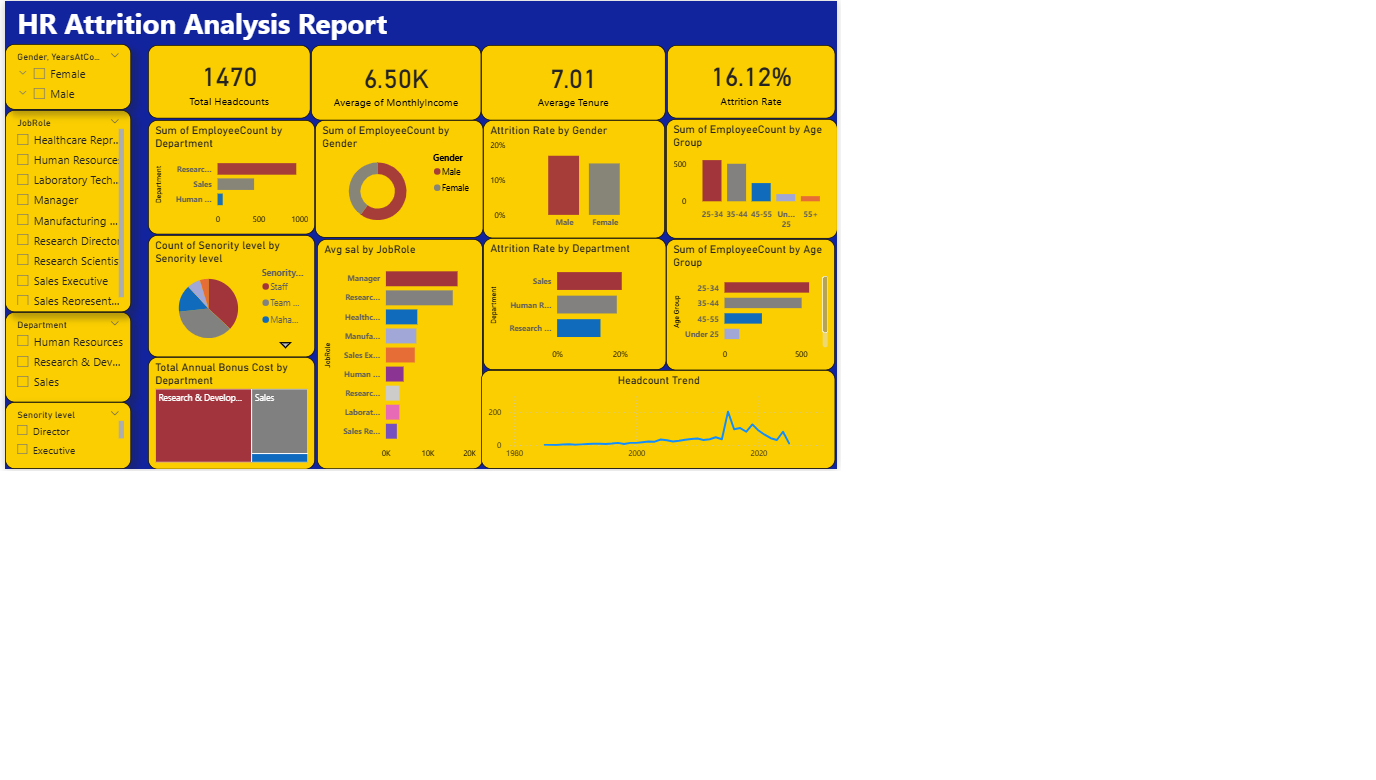

This screenshot's page, from the dashboard's own definition file:
{"tool":"powerbi","page":{"name":"Page 1","canvas":[1280,720],"ordinal":0},"visuals":[{"type":"textbox","box":[13.3,0,583.3,73.3],"z":0},{"type":"slicer","fields":{"Values":["HR_Data.Department"]},"box":[0,478.6,193.7,138.8],"z":1000},{"type":"slicer","fields":{"Values":["HR_Data.JobRole"]},"box":[0,167.7,193.7,310.8],"z":2000},{"type":"slicer","fields":{"Values":["HR_Data.Gender","HR_Data.YearsAtCompany"]},"box":[0,66.5,193.7,101.2],"z":3000},{"type":"slicer","fields":{"Values":["HR_Data.Senority level"]},"box":[0,617.3,193.7,102.7],"z":4000},{"type":"card","fields":{"Values":["CountNonNull(HR_Data.EmployeeNumber)"]},"box":[220.1,67.2,250.3,112.5],"z":5000},{"type":"card","fields":{"Values":["Avg(HR_Data.MonthlyIncome)"]},"box":[470.3,67.2,262,115.9],"z":6000},{"type":"card","fields":{"Values":["Avg(HR_Data.YearsAtCompany)"]},"box":[732.4,67.2,283.9,115.9],"z":7000},{"type":"card","fields":{"Values":["HR_Data.Attrition Rate"]},"box":[1018,67.2,258.7,112.5],"z":8000},{"type":"barChart","fields":{"Y":["Sum(HR_Data.EmployeeCount)"],"Category":["HR_Data.Department"]},"box":[220.1,183.1,257,176.4],"z":9000},{"type":"donutChart","fields":{"Category":["HR_Data.Gender"],"Y":["Sum(HR_Data.EmployeeCount)"]},"box":[477.1,183.1,258.7,181.4],"z":10000},{"type":"columnChart","fields":{"Y":["HR_Data.Attrition Rate"],"Category":["HR_Data.Gender"]},"box":[736.1,183.6,280.3,182],"z":11000},{"type":"clusteredBarChart","fields":{"Y":["HR_Data.Attrition Rate"],"Category":["HR_Data.Department"]},"box":[735,365,281.7,203.3],"z":12000},{"type":"pieChart","fields":{"Category":["HR_Data.Senority level"],"Y":["CountNonNull(HR_Data.Senority level)"]},"box":[220.1,359.5,257,188.1],"z":13000},{"type":"clusteredColumnChart","fields":{"Category":["HR_Data.Age Group"],"Y":["Sum(HR_Data.EmployeeCount)"]},"box":[1016.4,182,263.9,183.6],"z":14000},{"type":"clusteredBarChart","fields":{"Y":["HR_Data.Avg sal"],"Category":["HR_Data.JobRole"]},"box":[480.4,366.2,255.3,354.4],"z":15000},{"type":"clusteredBarChart","fields":{"Category":["HR_Data.Age Group"],"Y":["Sum(HR_Data.EmployeeCount)"]},"box":[1016.7,366.7,260,201.7],"z":16000},{"type":"treemap","fields":{"Values":["HR_Data.Total Annual Bonus Cost"],"Group":["HR_Data.Department"]},"box":[220.1,547.6,257,173],"z":17000},{"type":"lineChart","title":"Headcount Trend","fields":{"Y":["Sum(HR_Data.EmployeeCount)"],"Category":["HR_Data.Hired date"]},"box":[731.7,568.3,545,151.7],"z":18000}]}

Visuals, with their boxes in screenshot pixels (x1, y1, x2, y2), scaled from the page's 1280x720 canvas onto the 1376x780 screenshot:
textbox: [x1=14, y1=0, x2=641, y2=79]
slicer - HR_Data.Department: [x1=0, y1=518, x2=208, y2=669]
slicer - HR_Data.JobRole: [x1=0, y1=182, x2=208, y2=518]
slicer - HR_Data.Gender x HR_Data.YearsAtCompany: [x1=0, y1=72, x2=208, y2=182]
slicer - HR_Data.Senority level: [x1=0, y1=669, x2=208, y2=779]
card - CountNonNull(HR_Data.EmployeeNumber): [x1=237, y1=73, x2=506, y2=195]
card - Avg(HR_Data.MonthlyIncome): [x1=506, y1=73, x2=787, y2=198]
card - Avg(HR_Data.YearsAtCompany): [x1=787, y1=73, x2=1093, y2=198]
card - HR_Data.Attrition Rate: [x1=1094, y1=73, x2=1372, y2=195]
barChart - Sum(HR_Data.EmployeeCount) x HR_Data.Department: [x1=237, y1=198, x2=513, y2=389]
donutChart - HR_Data.Gender x Sum(HR_Data.EmployeeCount): [x1=513, y1=198, x2=791, y2=395]
columnChart - HR_Data.Attrition Rate x HR_Data.Gender: [x1=791, y1=199, x2=1093, y2=396]
clusteredBarChart - HR_Data.Attrition Rate x HR_Data.Department: [x1=790, y1=395, x2=1093, y2=616]
pieChart - HR_Data.Senority level x CountNonNull(HR_Data.Senority level): [x1=237, y1=389, x2=513, y2=593]
clusteredColumnChart - HR_Data.Age Group x Sum(HR_Data.EmployeeCount): [x1=1093, y1=197, x2=1375, y2=396]
clusteredBarChart - HR_Data.Avg sal x HR_Data.JobRole: [x1=516, y1=397, x2=791, y2=779]
clusteredBarChart - HR_Data.Age Group x Sum(HR_Data.EmployeeCount): [x1=1093, y1=397, x2=1372, y2=616]
treemap - HR_Data.Total Annual Bonus Cost x HR_Data.Department: [x1=237, y1=593, x2=513, y2=779]
"Headcount Trend" lineChart: [x1=787, y1=616, x2=1372, y2=779]
